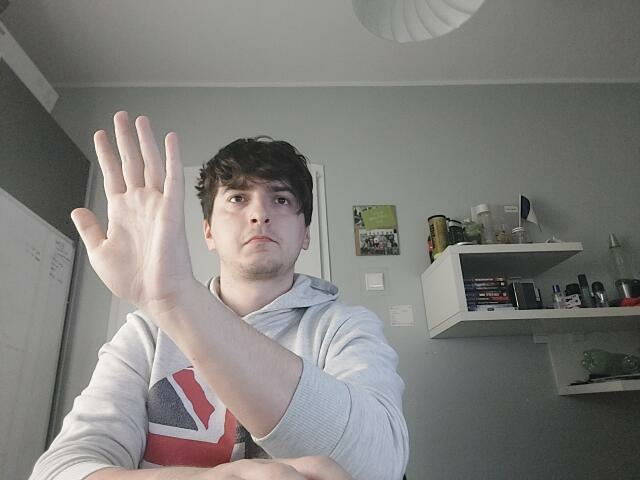hello: (66, 110, 193, 298)
